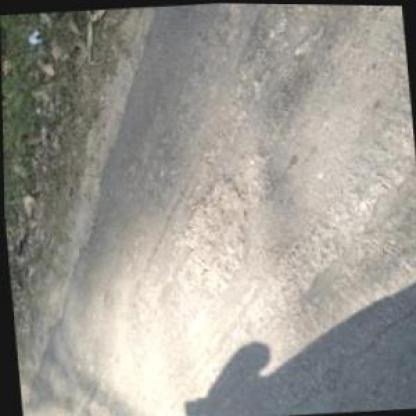pothole: (170, 166, 254, 294), (241, 150, 280, 208)
